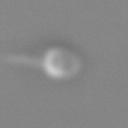normal: (1, 47, 45, 70)
